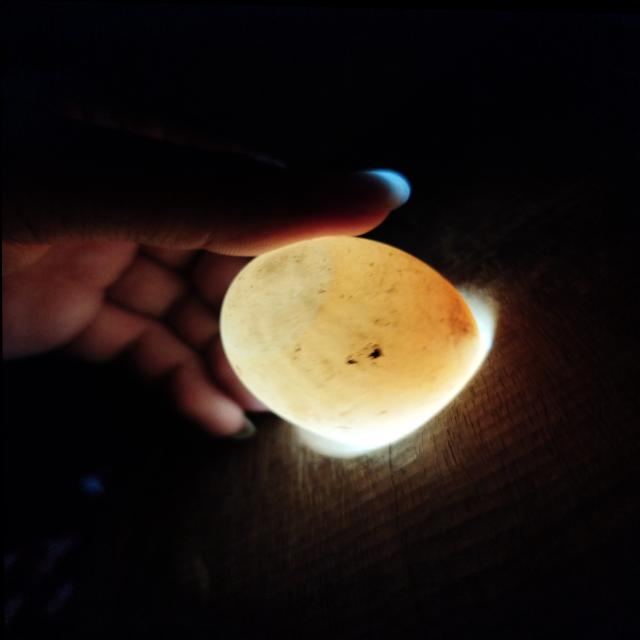Camara de Ar: (220, 239, 329, 353)
